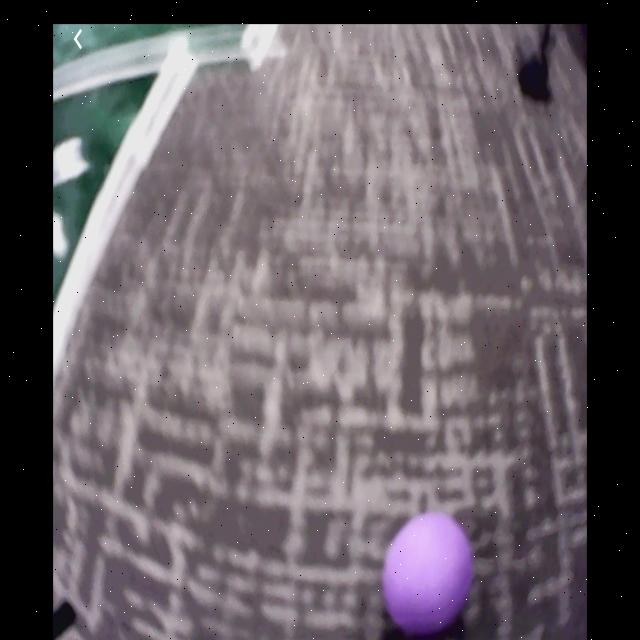ball: (385, 513, 472, 632)
